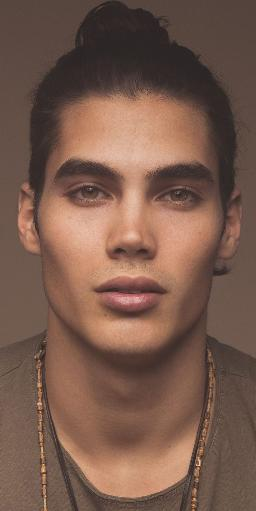left_eye: (156, 186, 205, 211)
left_lip_corner: (161, 286, 172, 302)
right_eye: (61, 183, 115, 210)
right_lip_corner: (91, 284, 103, 303)
